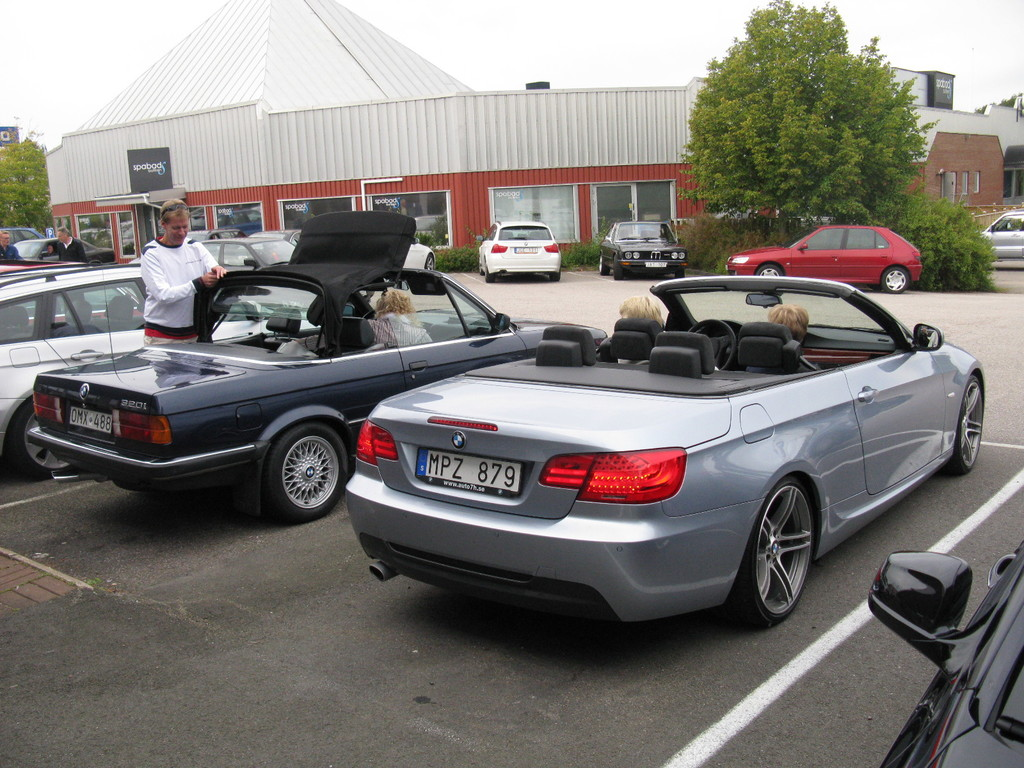Car: (0, 222, 985, 631), (864, 533, 1023, 767), (727, 220, 922, 295), (593, 217, 685, 279), (474, 221, 562, 279), (980, 210, 1023, 261)
